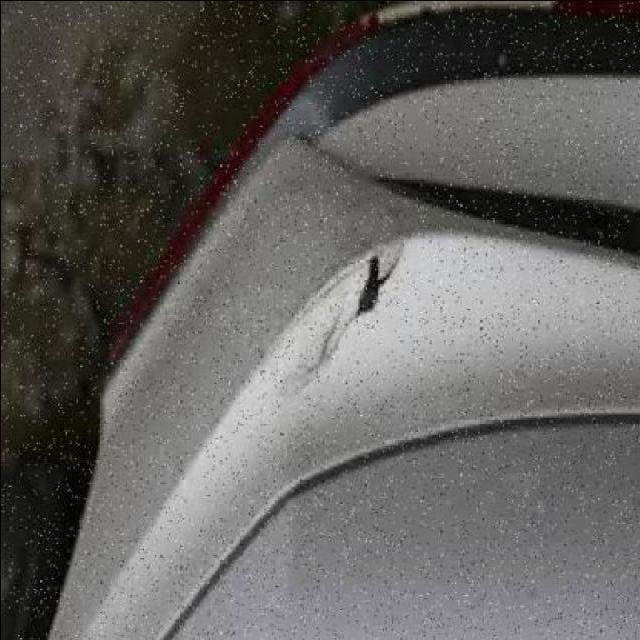front-bumper-dent: (29, 6, 640, 483)
